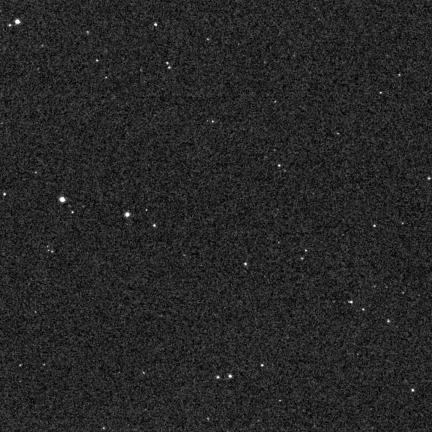blob: (59, 197, 66, 202), (125, 212, 130, 217), (15, 19, 20, 24), (216, 376, 221, 380), (261, 364, 265, 368), (153, 224, 157, 228), (154, 23, 158, 27), (228, 374, 232, 378), (412, 389, 415, 393), (349, 301, 353, 304), (244, 263, 247, 266)
